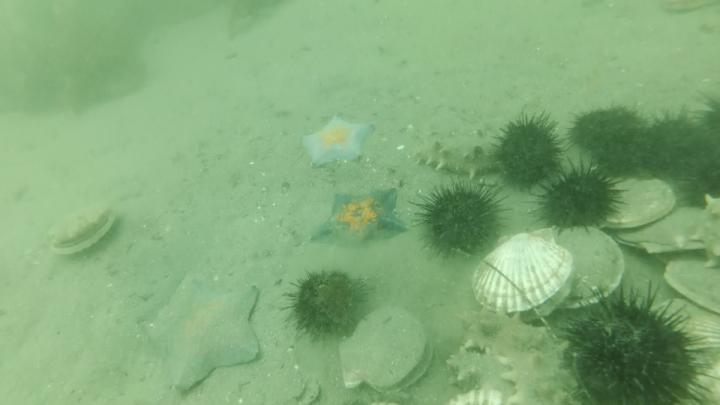echinus: (562, 278, 717, 405), (414, 177, 512, 263), (282, 268, 377, 345), (531, 163, 630, 234), (490, 113, 566, 194), (637, 112, 710, 184), (590, 126, 667, 183), (567, 103, 641, 160), (687, 97, 720, 201)
holothurian: (456, 306, 581, 405), (409, 127, 506, 182), (444, 344, 515, 405), (691, 210, 720, 273)
scallop: (337, 304, 436, 402), (473, 232, 577, 324), (651, 297, 720, 405), (558, 226, 628, 316), (615, 203, 713, 255), (602, 174, 679, 235), (46, 202, 122, 260), (662, 255, 719, 319)
starfish: (135, 269, 266, 397), (313, 187, 412, 251), (299, 112, 378, 172)
